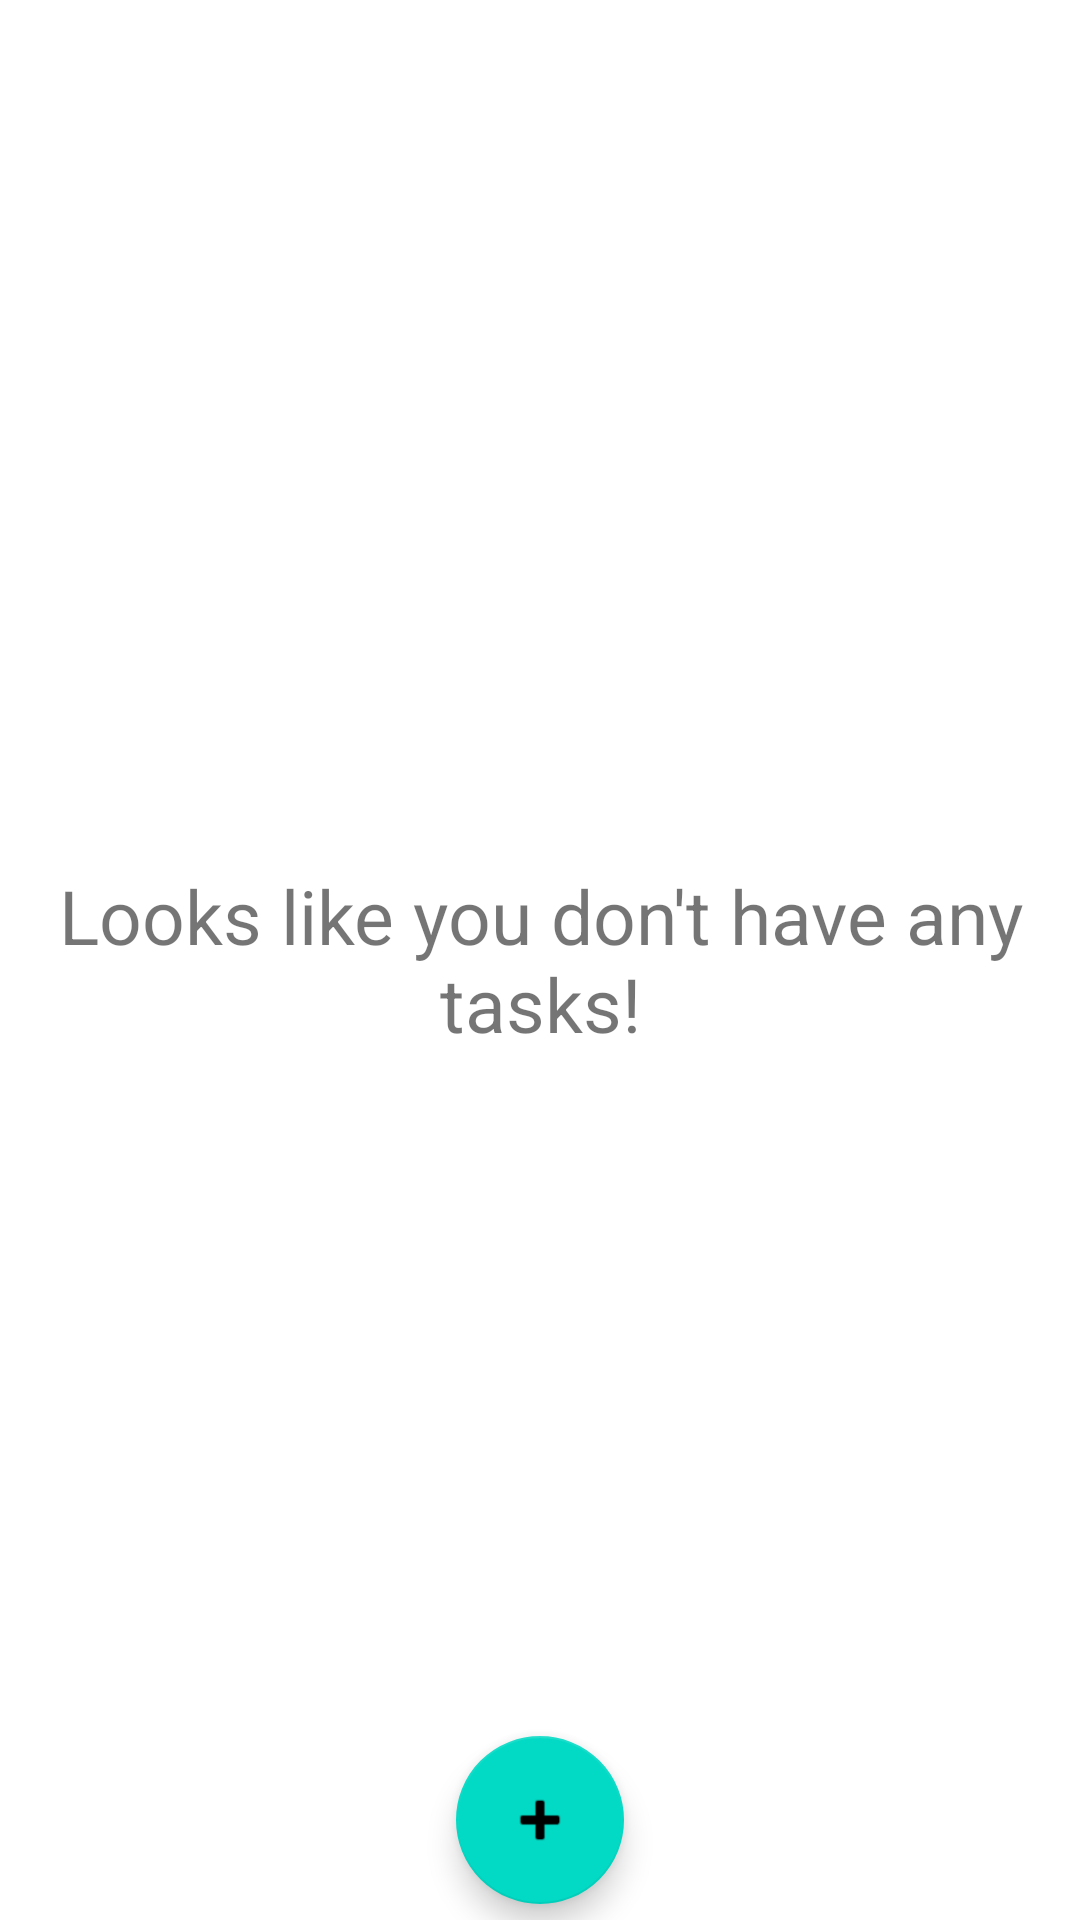

Where to tap for icons on this 1080×1920 app screen, as [x,y]:
add: [540,1820]
